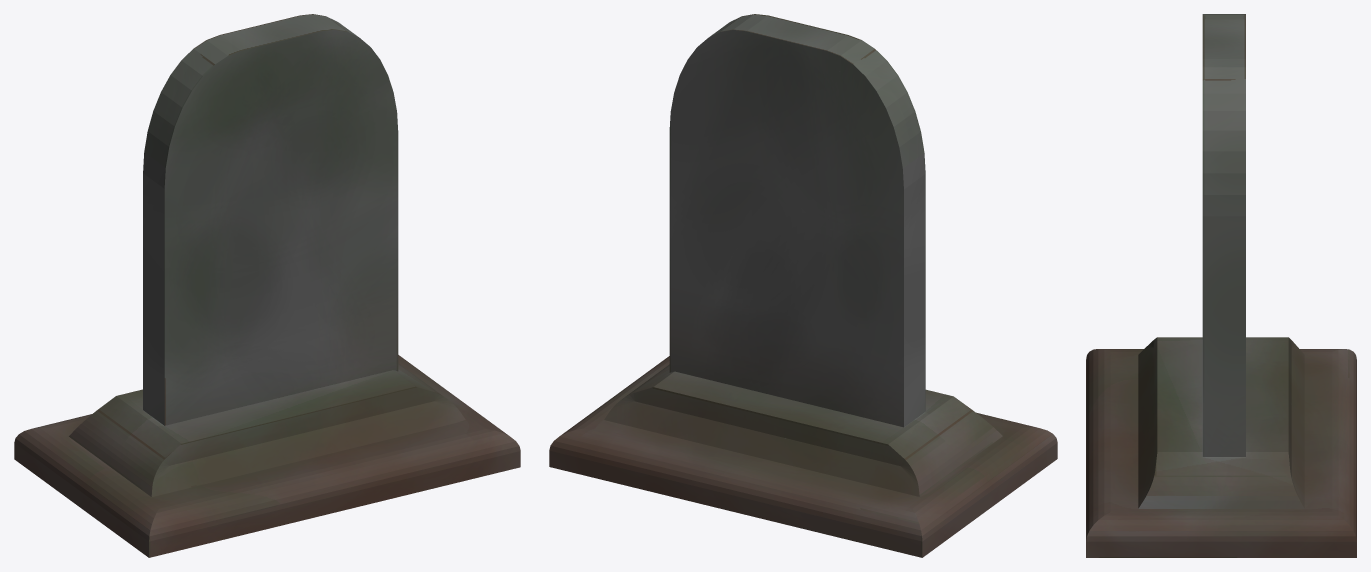
File: tomb_4.fbx
3 views of the same model, side by side, from view 1: azimuth 30°, elevation 25°; view 2: azimuth 150°, elevation 25°; view 3: azimuth 270°, elevation 25° (orthographic).
Parts seen in each view (by area): view 1: Cube.008; view 2: Cube.008; view 3: Cube.008.
Boxes of the visible parts, bbox=[...] form: Cube.008: bbox=[14, 14, 520, 557]; Cube.008: bbox=[549, 14, 1057, 557]; Cube.008: bbox=[1086, 14, 1356, 557].
Size of the model in its own units: 1.02 by 1.13 by 0.6434.
Materials: 1 (1 with a texture image).
